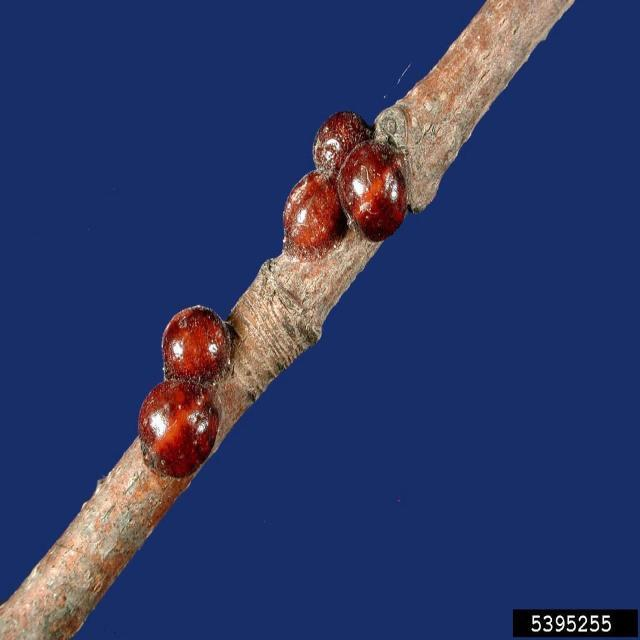BlackScale: (283, 112, 407, 260), (138, 306, 236, 477)
